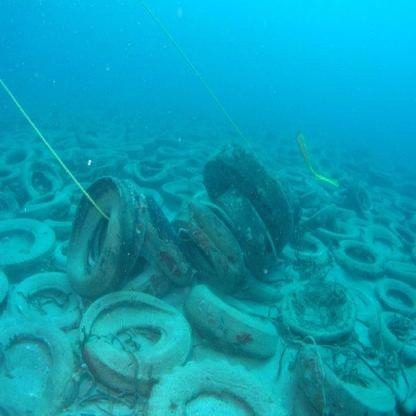net: (136, 3, 253, 138), (3, 66, 96, 204)
tire: (130, 142, 293, 285), (84, 292, 191, 392), (56, 179, 140, 299), (147, 360, 286, 416), (184, 276, 276, 360), (1, 330, 86, 416), (11, 270, 79, 329), (0, 216, 52, 278), (371, 274, 414, 322), (18, 157, 67, 197), (285, 229, 329, 269), (376, 310, 416, 352), (362, 223, 407, 258), (339, 230, 375, 272), (128, 154, 172, 188), (156, 177, 199, 209), (22, 198, 73, 224), (1, 141, 37, 173)
